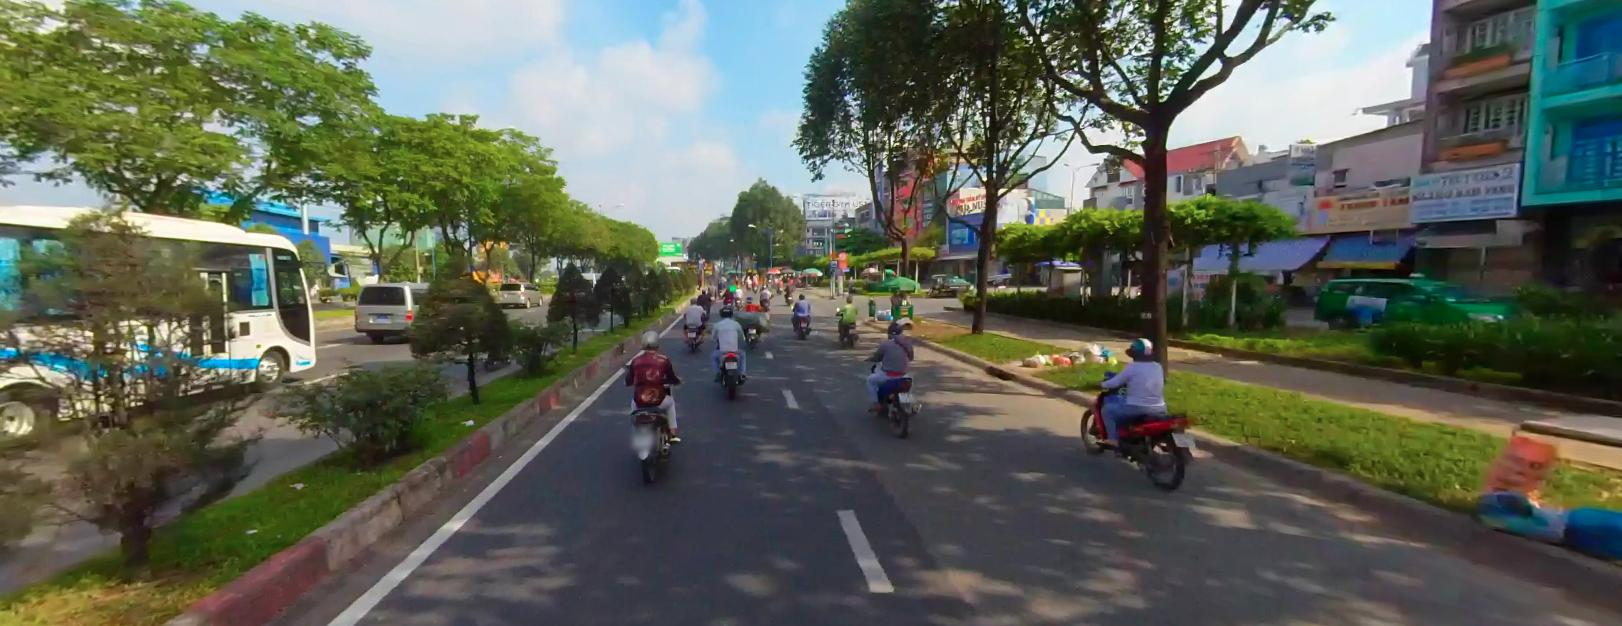Cam con lai: (838, 250, 845, 258)
Nguy hiem: (829, 250, 836, 256)
